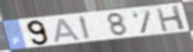7: (131, 9, 153, 35)
8: (106, 12, 130, 37)
9: (26, 19, 51, 46)
A: (53, 17, 83, 43)
H: (154, 4, 187, 33)
I: (77, 14, 93, 41)
